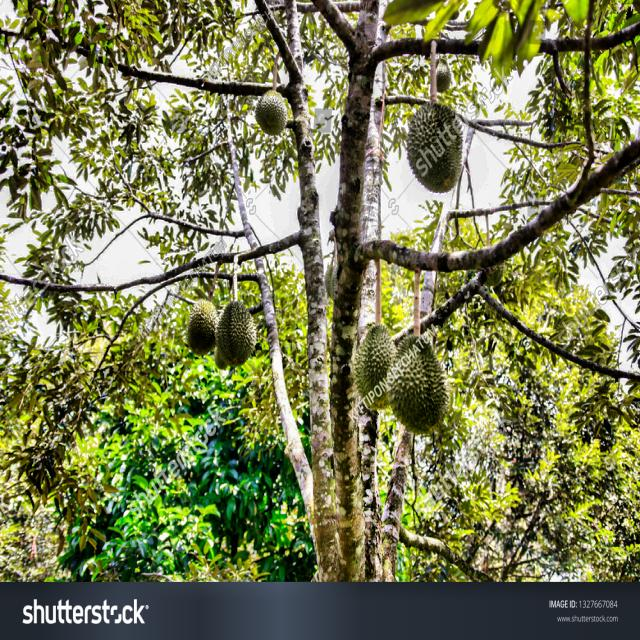arvore: (273, 30, 418, 585)
